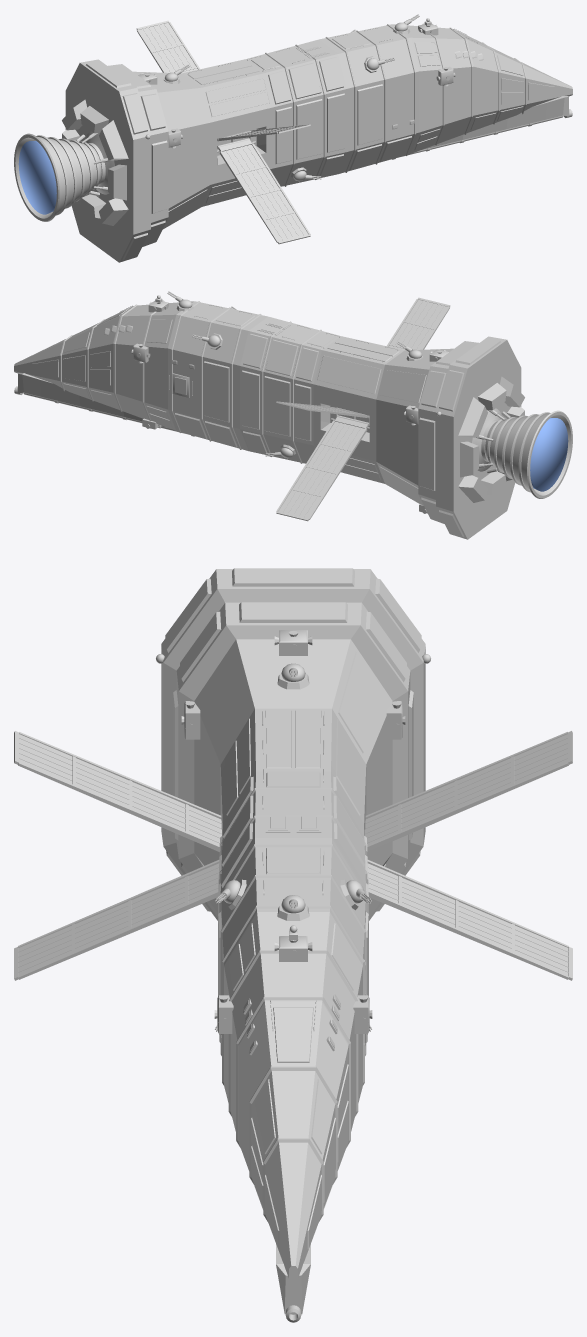
The model's file is StealthShip.fbx.
The picture shows the model from 3 angles, top to bottom: view 1: azimuth 30°, elevation 25°; view 2: azimuth 150°, elevation 25°; view 3: azimuth 270°, elevation 25°; orthographic projection. The views are drawn at different scales.
Visible parts, largest first — view 1: Body, Radiator_3, Engine, Radiator_0, Radiator_2; view 2: Body, Radiator_1, Engine, Radiator_2, Radiator_0; view 3: Body, Radiator_0, Radiator_2, Radiator_1, Radiator_3.
Boxes of the visible parts, left/top/right/bottom form: Body: left=14, top=14, right=572, bottom=262; Radiator_3: left=217, top=138, right=310, bottom=244; Engine: left=18, top=140, right=56, bottom=214; Radiator_0: left=136, top=20, right=200, bottom=73; Radiator_2: left=217, top=124, right=310, bottom=141; Body: left=14, top=291, right=572, bottom=539; Radiator_1: left=276, top=415, right=369, bottom=521; Engine: left=530, top=417, right=568, bottom=491; Radiator_2: left=386, top=297, right=450, bottom=350; Radiator_0: left=276, top=401, right=369, bottom=418; Body: left=156, top=568, right=430, bottom=1322; Radiator_0: left=365, top=731, right=572, bottom=851; Radiator_2: left=14, top=731, right=221, bottom=851; Radiator_1: left=367, top=860, right=572, bottom=980; Radiator_3: left=14, top=860, right=219, bottom=980.
Bounding box in the file's own units: 1.1 × 0.3391 × 0.507.
